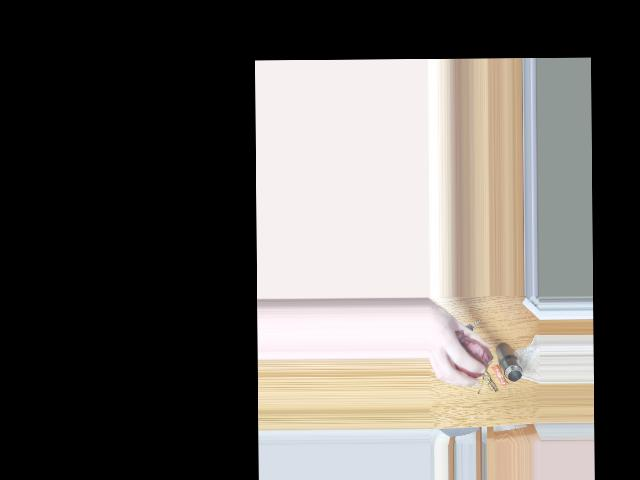onion: (455, 341, 489, 379)
